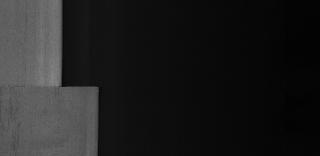welding line: (2, 80, 108, 92)
